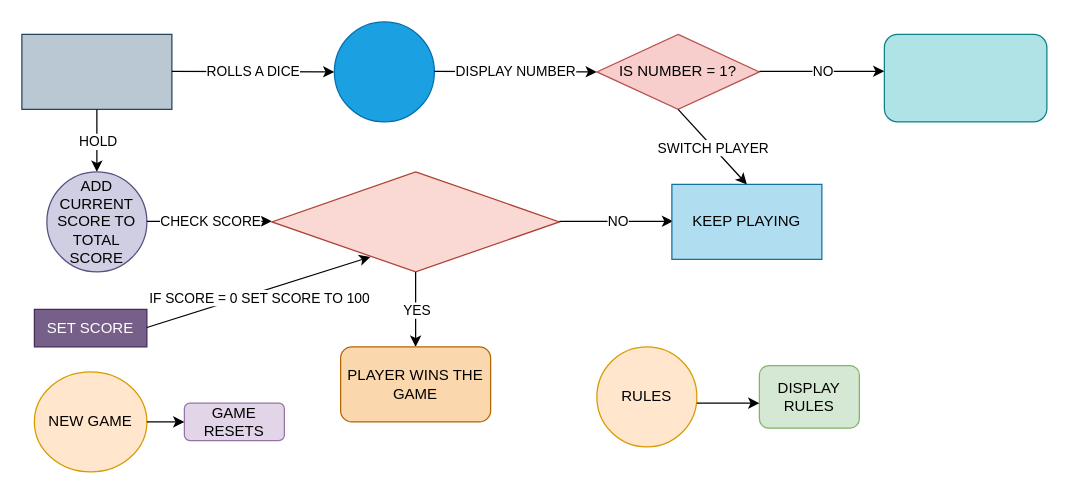
The diagram is 1069 pixels wide and 494 high, and some of its shapes have lost their labels. Here are the shapes that lost their labels. From the top down, the centre of each, then its label:
At (x=96, y=71): "PLAYER".
At (x=383, y=71): "DICE GENERATES A NUMBER FROM 1-6".
At (x=965, y=77): "ADD DICE NUMBER TO THE CURRENT SCORE AND DISPLAY TOTAL SCORE".
At (x=415, y=221): "IS TOTAL SCORE >= SET SCORE ?".
